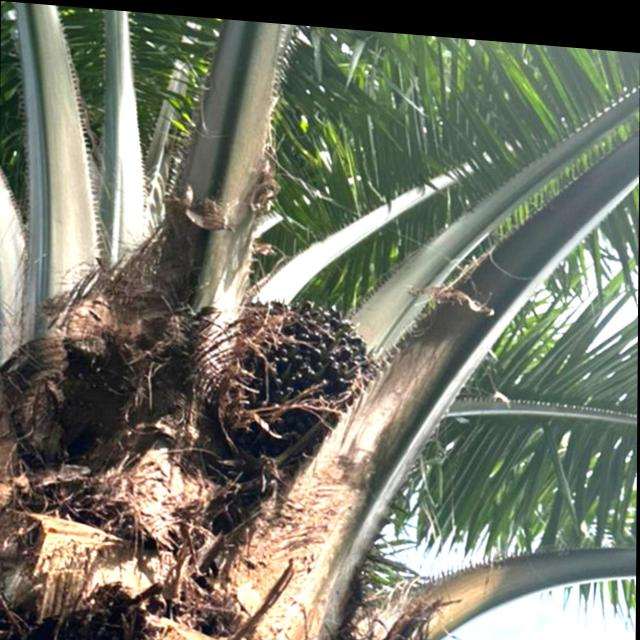almost: (223, 277, 377, 453)
